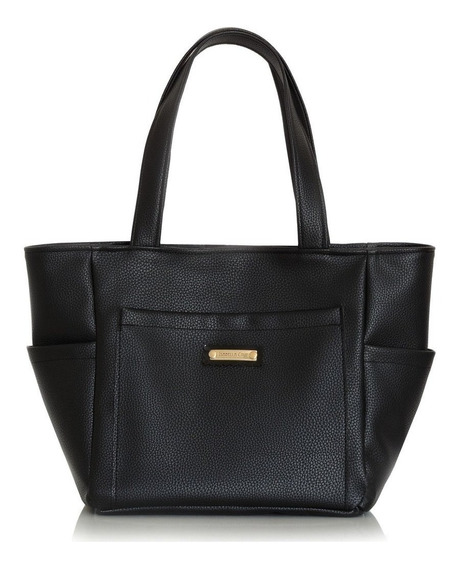cartera: (23, 27, 437, 518)
